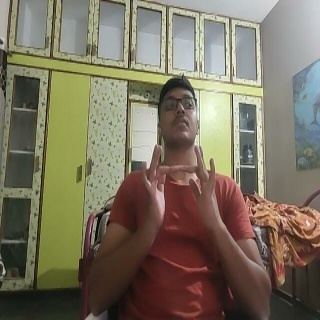Internet: (137, 144, 226, 236)
